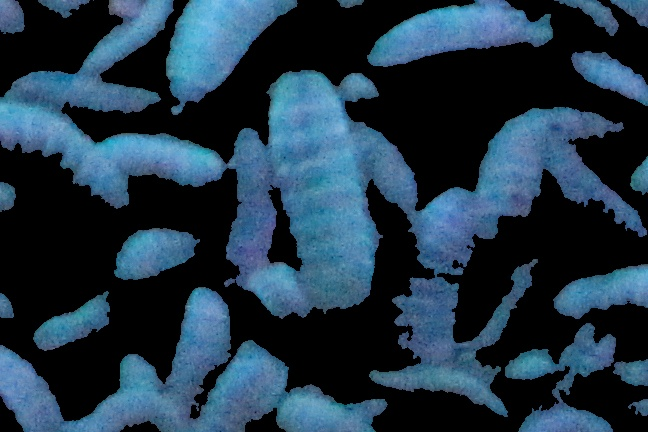larvae: (268, 72, 378, 306), (390, 185, 485, 361), (175, 1, 337, 98), (479, 112, 628, 216), (1, 101, 119, 207), (540, 139, 645, 253), (363, 3, 554, 64), (199, 343, 296, 432), (113, 122, 225, 193), (1, 70, 165, 118), (375, 362, 505, 422), (227, 128, 272, 296), (84, 1, 181, 73), (477, 253, 549, 349), (353, 116, 421, 212), (111, 220, 215, 282), (550, 259, 648, 317), (1, 347, 65, 426), (568, 46, 648, 108), (280, 391, 396, 432), (179, 297, 234, 382), (112, 356, 169, 424), (36, 291, 105, 346), (1, 293, 28, 332)
